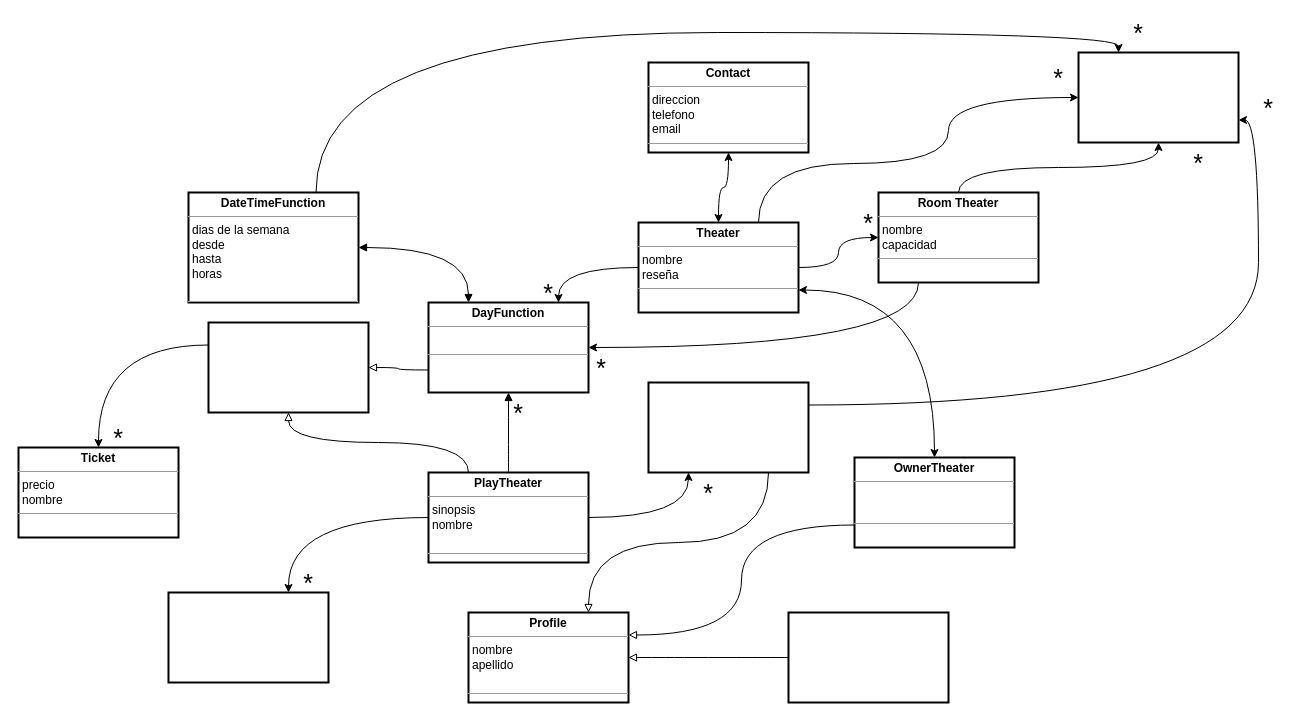
The diagram is 1305 pixels wide and 720 high, and some of its shapes have lost their labels. The shapes that lost their labels are listed below. From the top down, each one's box as (x1, y1, x2, y2) in pixels, then its label:
(1077, 51, 1239, 143): Class theater nombre descripcion precio
(207, 321, 369, 413): Ticketeable topic
(647, 381, 809, 473): Actor
(167, 591, 329, 683): Rate cometario calificacion
(787, 611, 949, 703): Spectator
